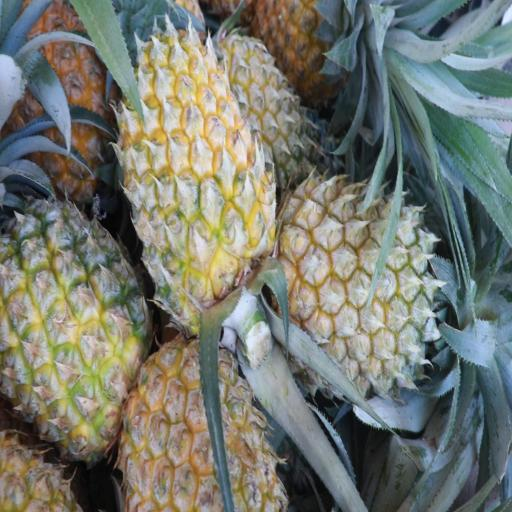------------------------------: (0, 194, 166, 471)
Pineapple - v8 v1: (110, 12, 279, 345), (278, 168, 472, 412), (241, 0, 388, 127)
